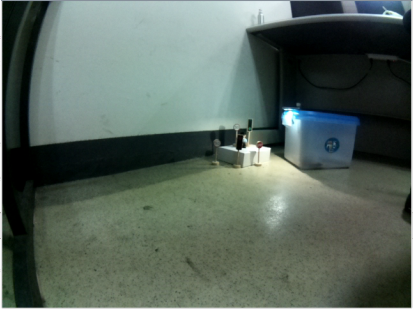Green: (246, 117, 254, 134)
Red: (234, 133, 245, 150)
Stop: (254, 141, 264, 149)
